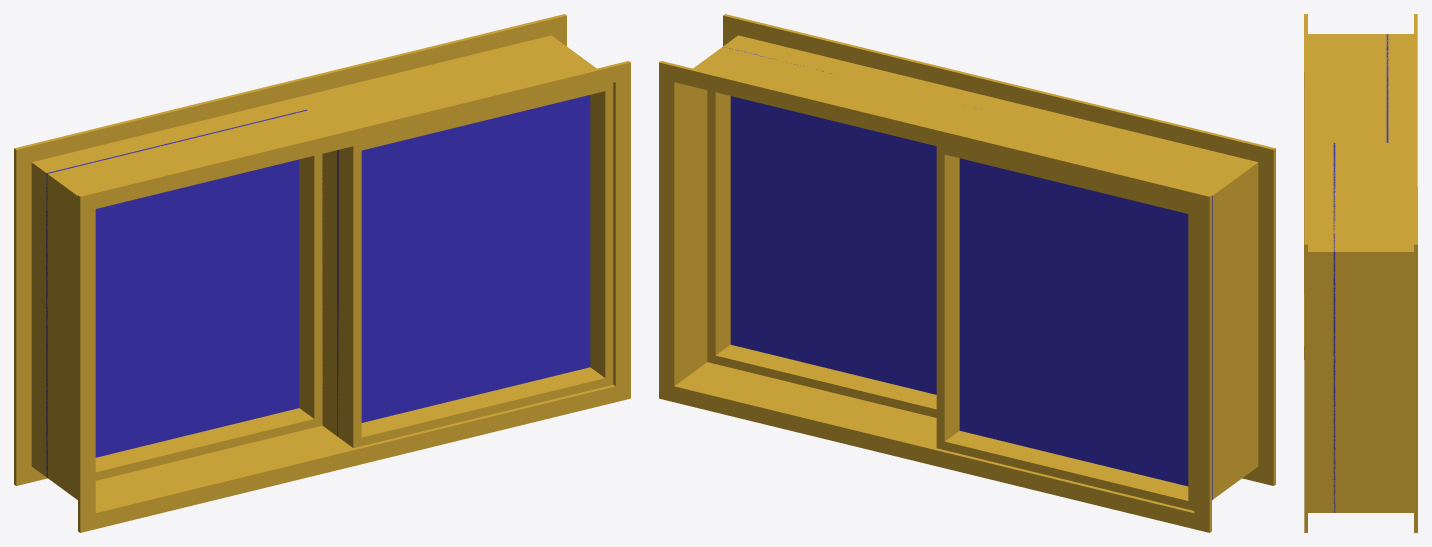
The model's file is 15_BankSlidingWindow.FBX.
3 views of the same model, side by side, from view 1: azimuth 30°, elevation 25°; view 2: azimuth 150°, elevation 25°; view 3: azimuth 270°, elevation 25° (orthographic). The views are drawn at different scales.
Visible parts, largest first — view 1: 15_BankSlidingWindow; view 2: 15_BankSlidingWindow; view 3: 15_BankSlidingWindow.
Part boxes in pixels (left/top/right/bottom): 15_BankSlidingWindow: left=14, top=14, right=630, bottom=532; 15_BankSlidingWindow: left=659, top=14, right=1275, bottom=532; 15_BankSlidingWindow: left=1304, top=14, right=1417, bottom=532.
Size of the model in its own units: 183 by 107 by 38.1.
